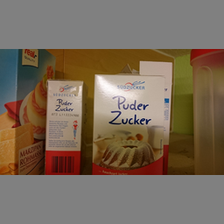tomato_sauce: (92, 74, 165, 174), (44, 78, 85, 174)
